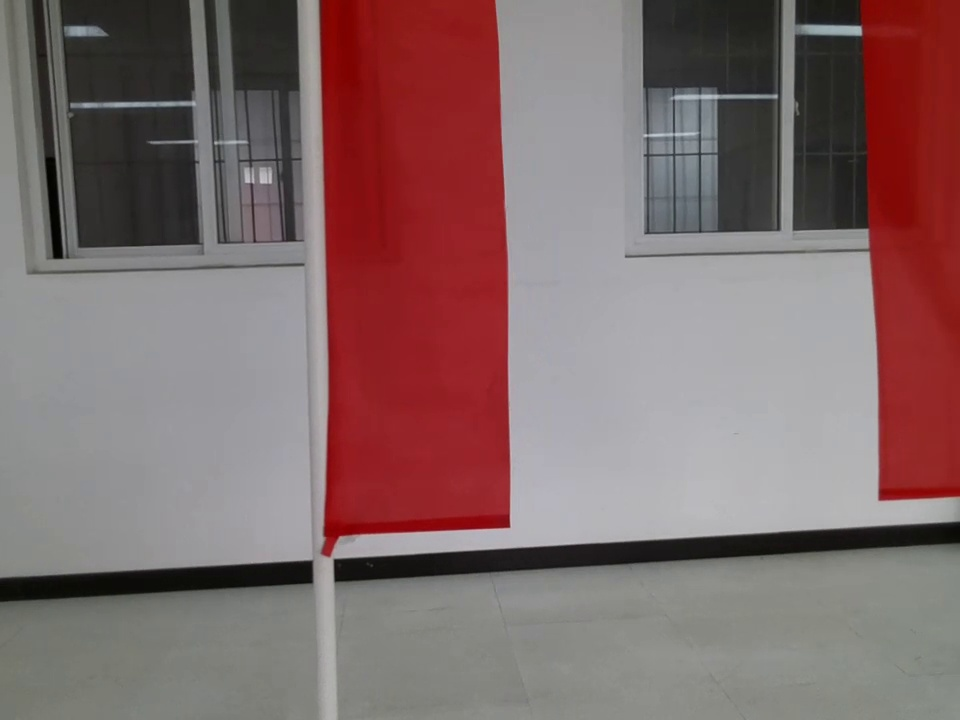qi: (294, 1, 517, 578), (855, 3, 960, 507)
